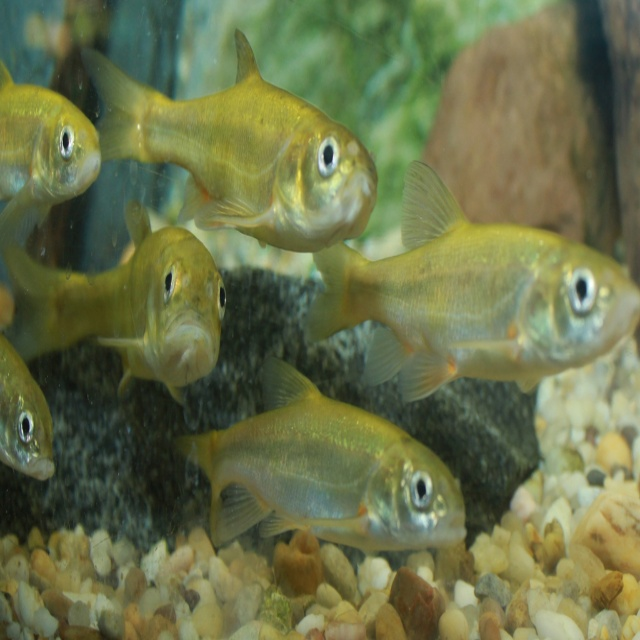Fish: (301, 155, 640, 409), (79, 45, 372, 283), (178, 363, 463, 568), (10, 195, 230, 410), (0, 52, 106, 243), (0, 329, 59, 496)
